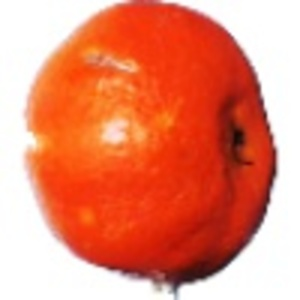tangerina: (21, 1, 280, 300)
